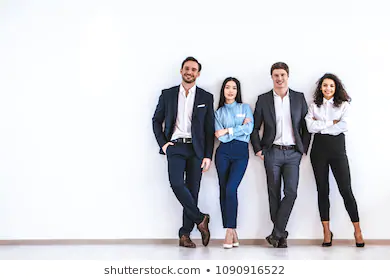person: (258, 51, 311, 136), (164, 51, 212, 118), (313, 64, 349, 146), (215, 68, 253, 136)
